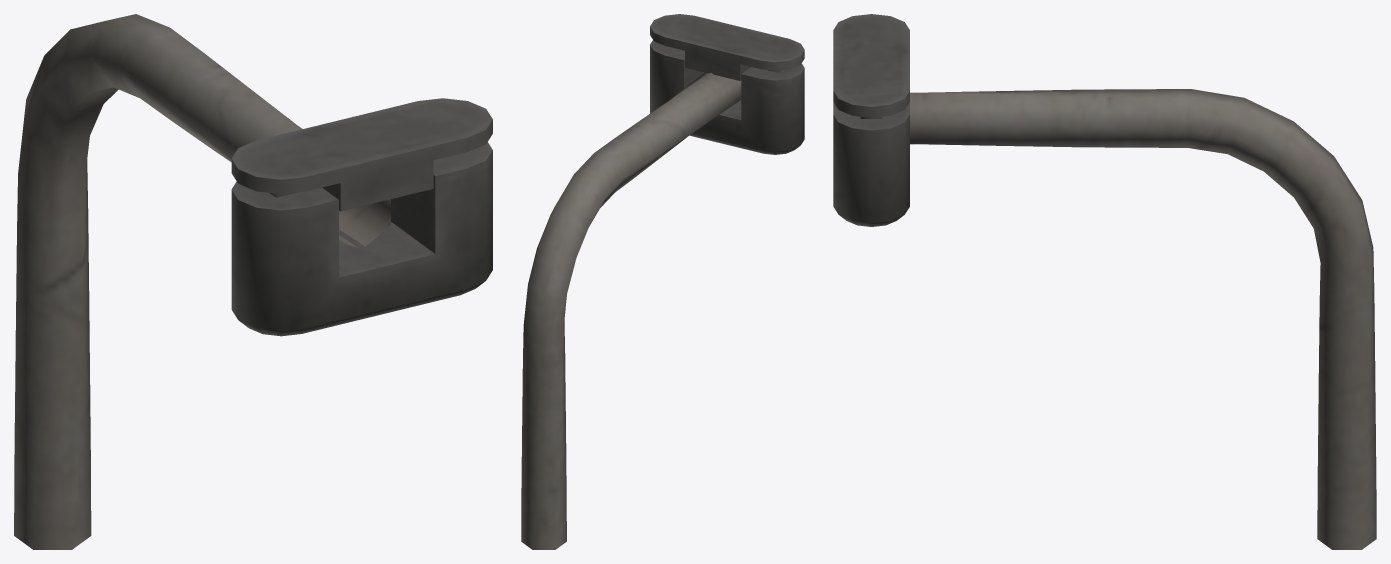
File: cable_cable_corner_towards.fbx
3 views of the same model, side by side, from view 1: azimuth 30°, elevation 25°; view 2: azimuth 150°, elevation 25°; view 3: azimuth 270°, elevation 25° (orthographic). The views are drawn at different scales.
Parts seen in each view (by area): view 1: modular_electric_cables__cable_corner_towards; view 2: modular_electric_cables__cable_corner_towards; view 3: modular_electric_cables__cable_corner_towards.
Boxes of the visible parts, x1,y1,x2,y2 form: modular_electric_cables__cable_corner_towards: (14,14,492,549); modular_electric_cables__cable_corner_towards: (521,14,804,549); modular_electric_cables__cable_corner_towards: (833,14,1376,549).
Bounding box in the file's own units: 0.0416 × 0.1 × 0.1029.
